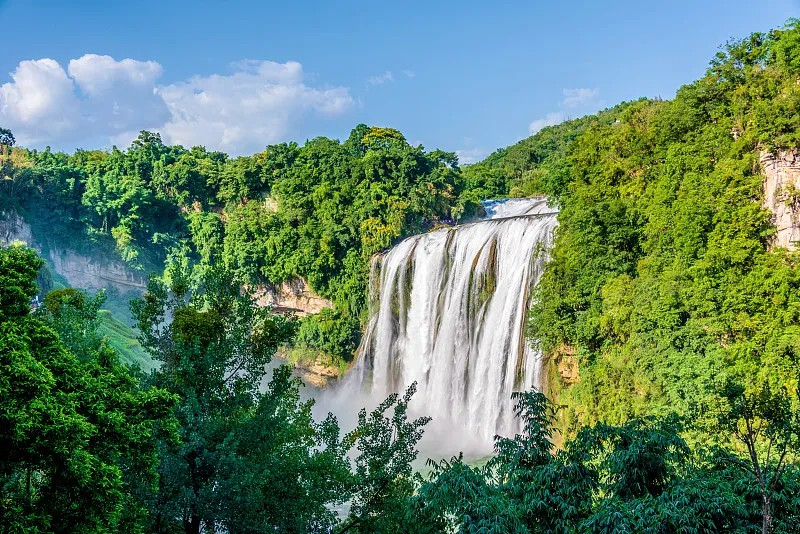Huangguoshu: (348, 201, 546, 460)
